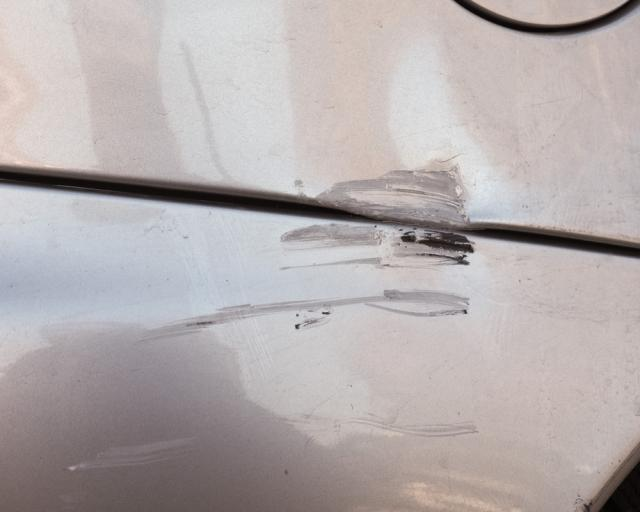scratch: (122, 215, 488, 345), (299, 161, 475, 230), (264, 401, 488, 444), (62, 432, 207, 467)
